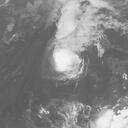cyclone: (52, 33, 84, 76)
